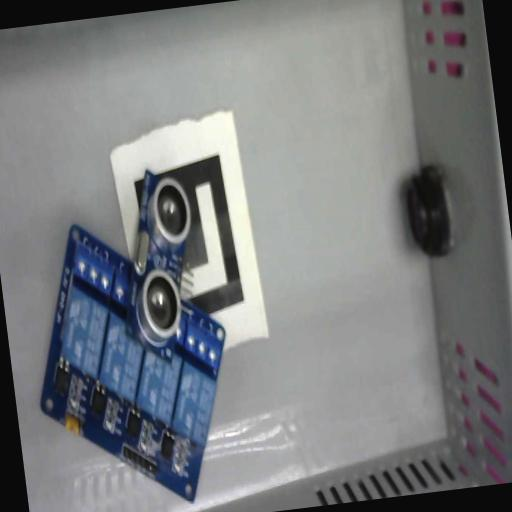QR: (132, 154, 246, 322)
relay_module: (18, 207, 246, 512)
ultrasonic_hc-sr04: (106, 166, 209, 364)
